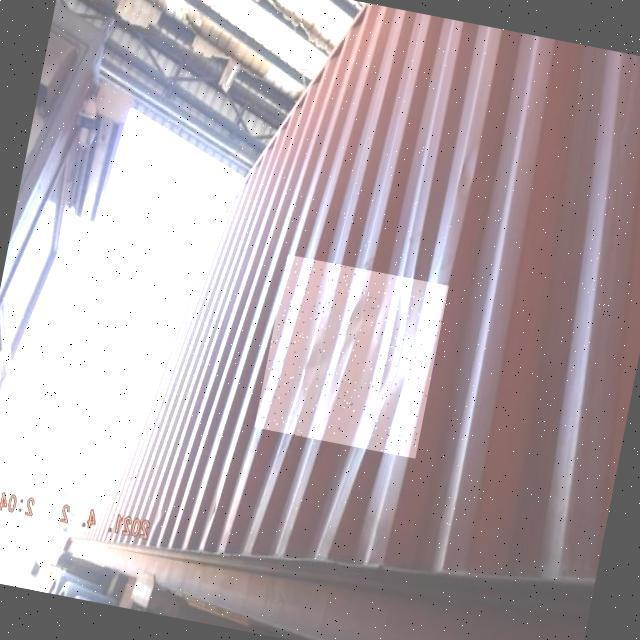dent: (255, 256, 450, 460)
